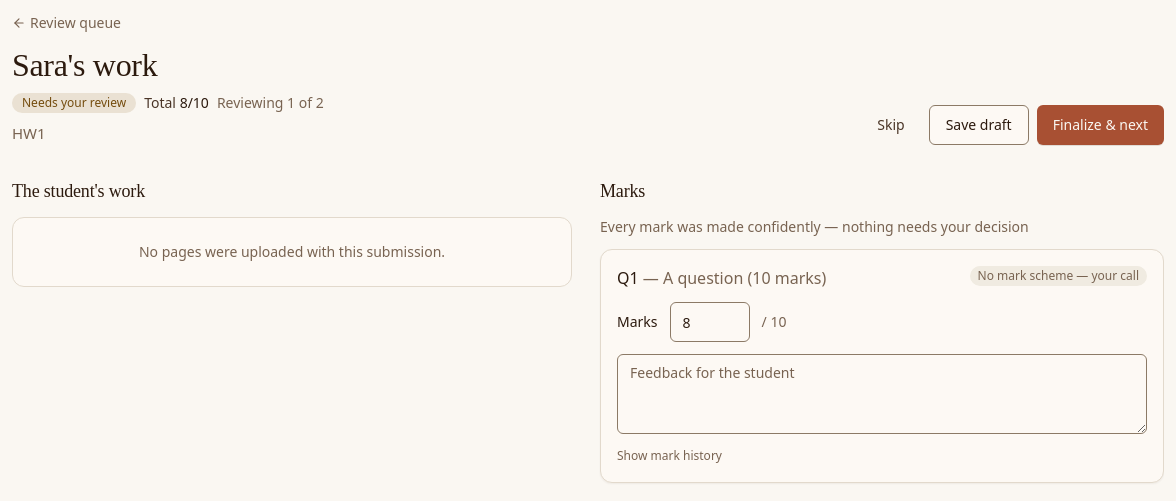
a mid-queue item offers Finalize & next and advances to it
Click the button "Finalize & next".
click(1100, 125)  # box x1=1037 y1=105 x2=1164 y2=145
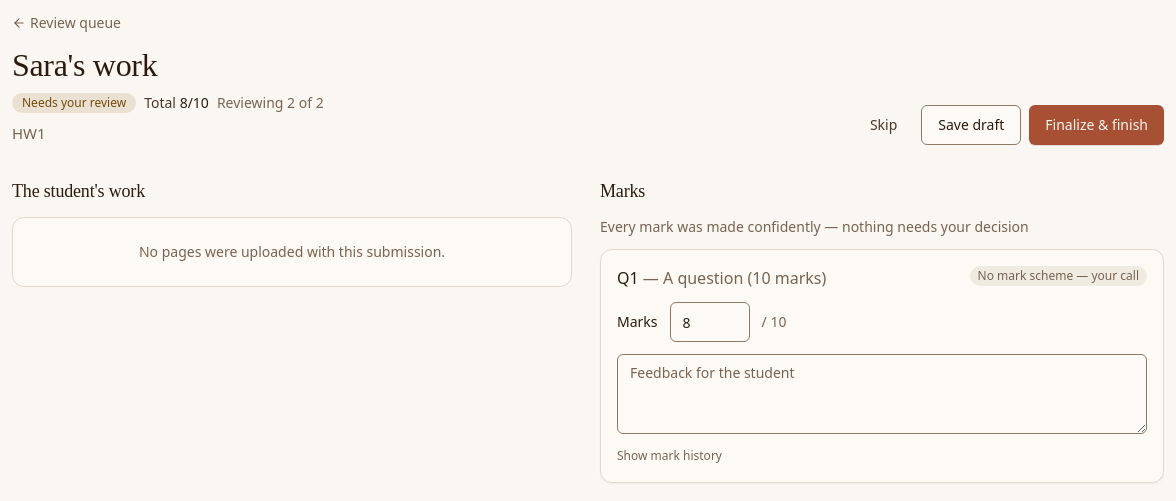
Now the text "Reviewing 2 of 2" is shown, box x1=217 y1=93 x2=324 y2=113
